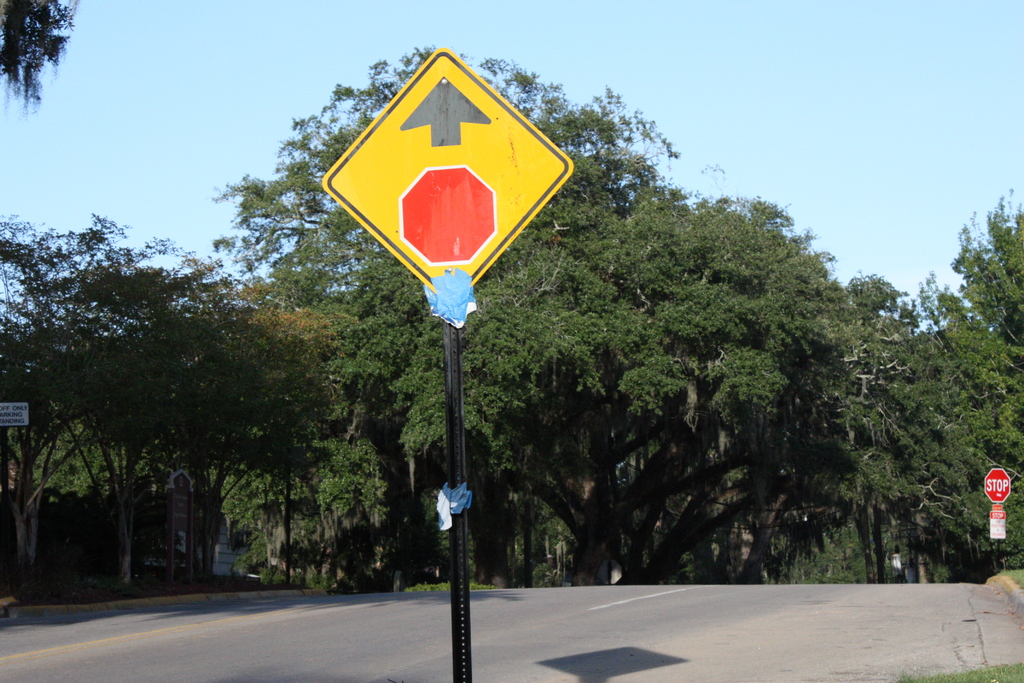red_light: (980, 466, 1014, 504), (982, 466, 1012, 504)
